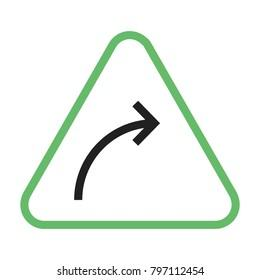Right Hand Curve: (16, 26, 251, 237)
